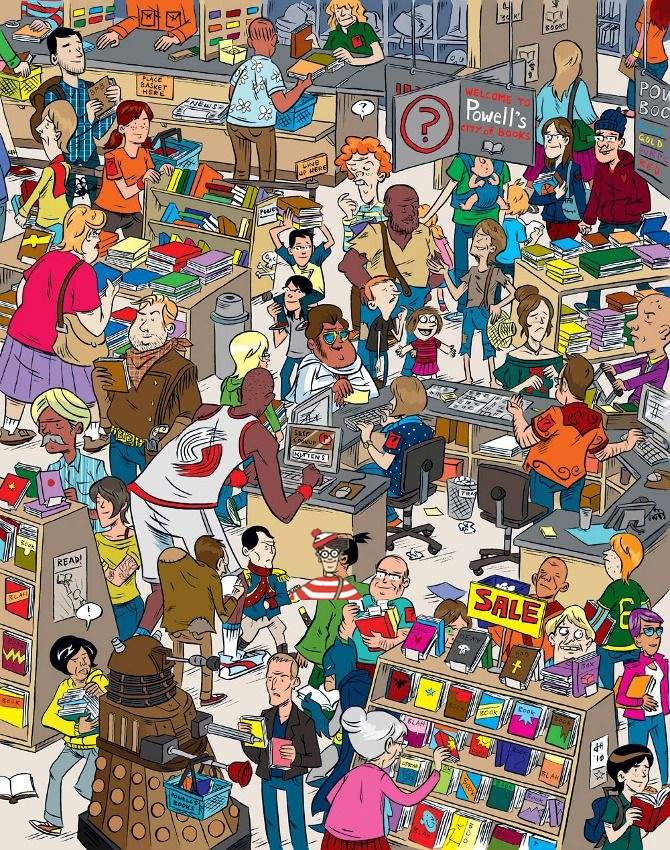waldo: (290, 527, 363, 600)
